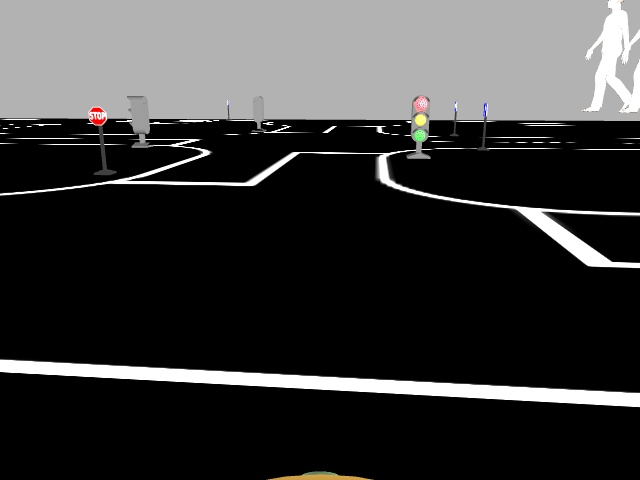Stop: (87, 105, 106, 125)
TrafficLight: (409, 95, 431, 142)
